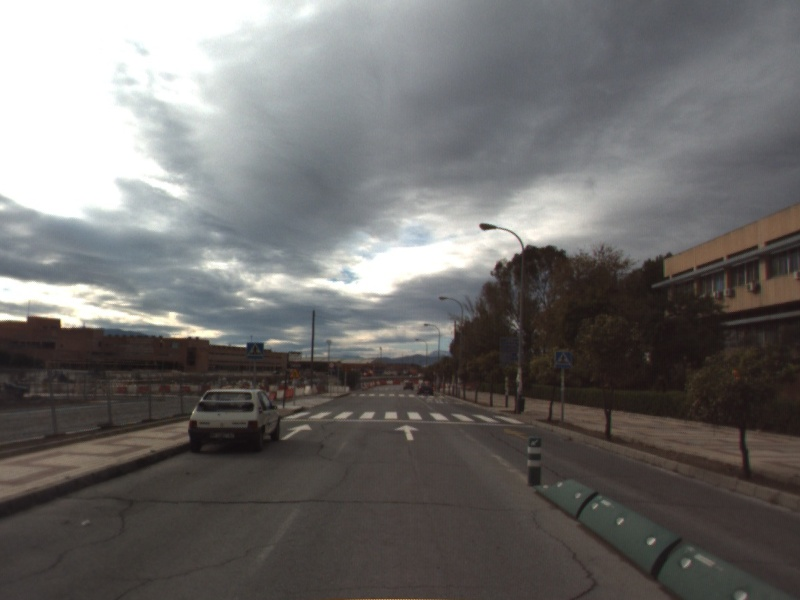STRAIGHT: (278, 422, 314, 442), (393, 423, 422, 442)
